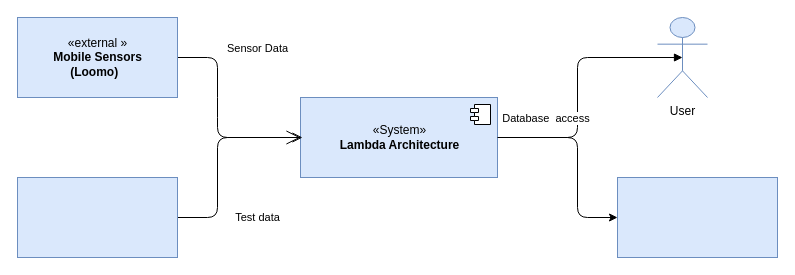
The diagram is 795 pixels wide and 275 high, and some of its shapes have lost their labels. The centre of each missing label's shape, as x and y in pixels:
«external » Data Wisualization: (x=697, y=217)
«external » Test Data Generator: (x=97, y=217)
